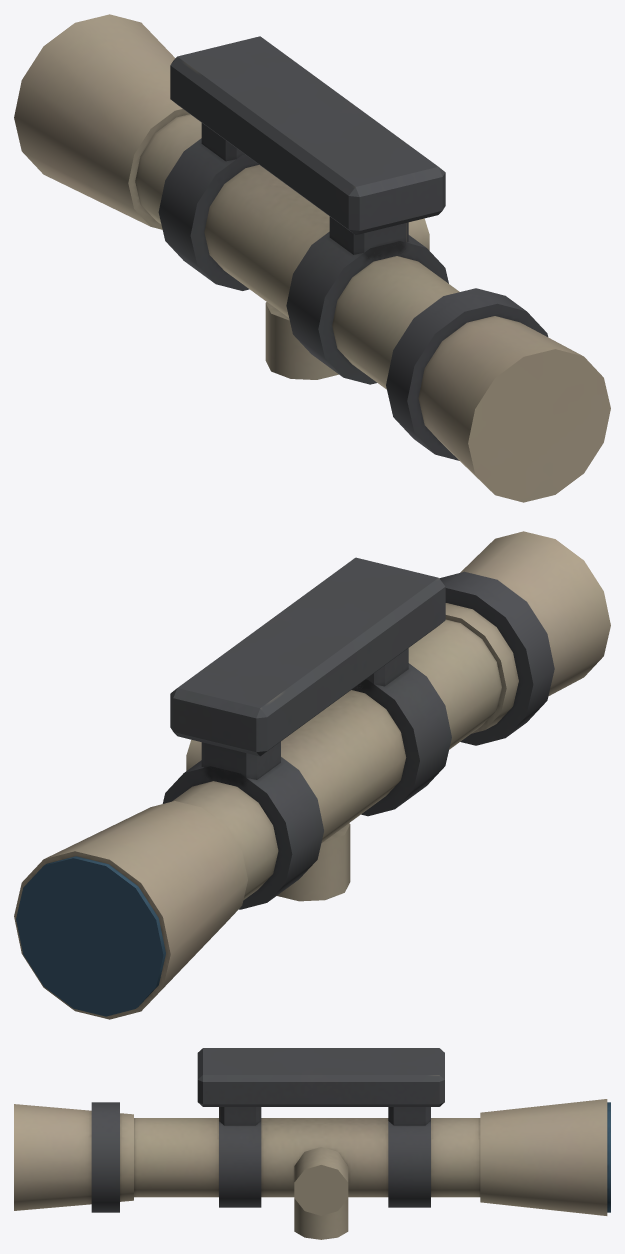
Rendered from AT_LPVO.fbx.
3 renders of one model, top to bottom at view 1: azimuth 30°, elevation 25°; view 2: azimuth 150°, elevation 25°; view 3: azimuth 270°, elevation 25°, orthographic. The views are drawn at different scales.
Visible parts, largest first — view 1: AT_LPVO_export; view 2: AT_LPVO_export; view 3: AT_LPVO_export.
Boxes of the visible parts, x1,y1,x2,y2 form: AT_LPVO_export: [14, 14, 610, 502]; AT_LPVO_export: [14, 531, 610, 1019]; AT_LPVO_export: [14, 1048, 610, 1239].
Bounding box in the file's own units: 0.039 × 0.169 × 0.052.
